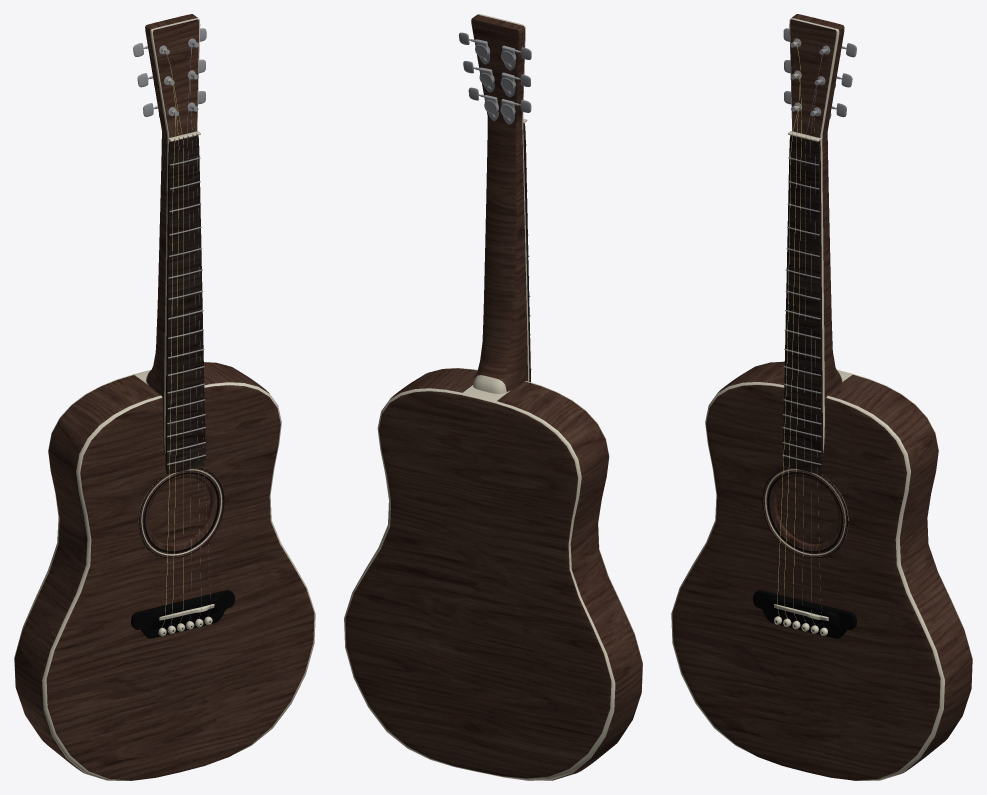
Rendered from obj_acoustic_guitar_0c490f.glb.
The picture shows the model from 3 angles, left to right: view 1: azimuth 30°, elevation 25°; view 2: azimuth 150°, elevation 25°; view 3: azimuth 330°, elevation 25°; orthographic projection.
Visible parts, largest first — view 1: obj_acoustic_guitar_0c490f; view 2: obj_acoustic_guitar_0c490f; view 3: obj_acoustic_guitar_0c490f.
Boxes of the visible parts, x1,y1,x2,y2 form: obj_acoustic_guitar_0c490f: [14, 14, 315, 780]; obj_acoustic_guitar_0c490f: [344, 14, 642, 780]; obj_acoustic_guitar_0c490f: [671, 14, 972, 780].
Size of the model in its own units: 0.3884 by 1 by 0.0969.
13 materials, 13 textured.
